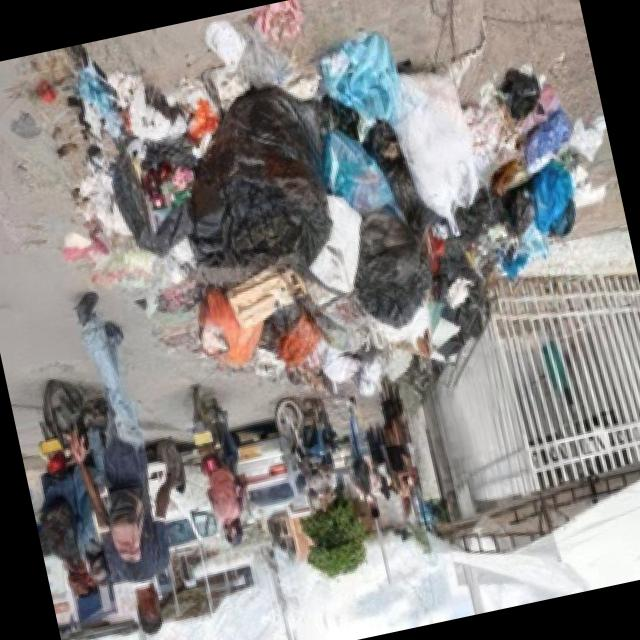high trash: (64, 0, 606, 396)
